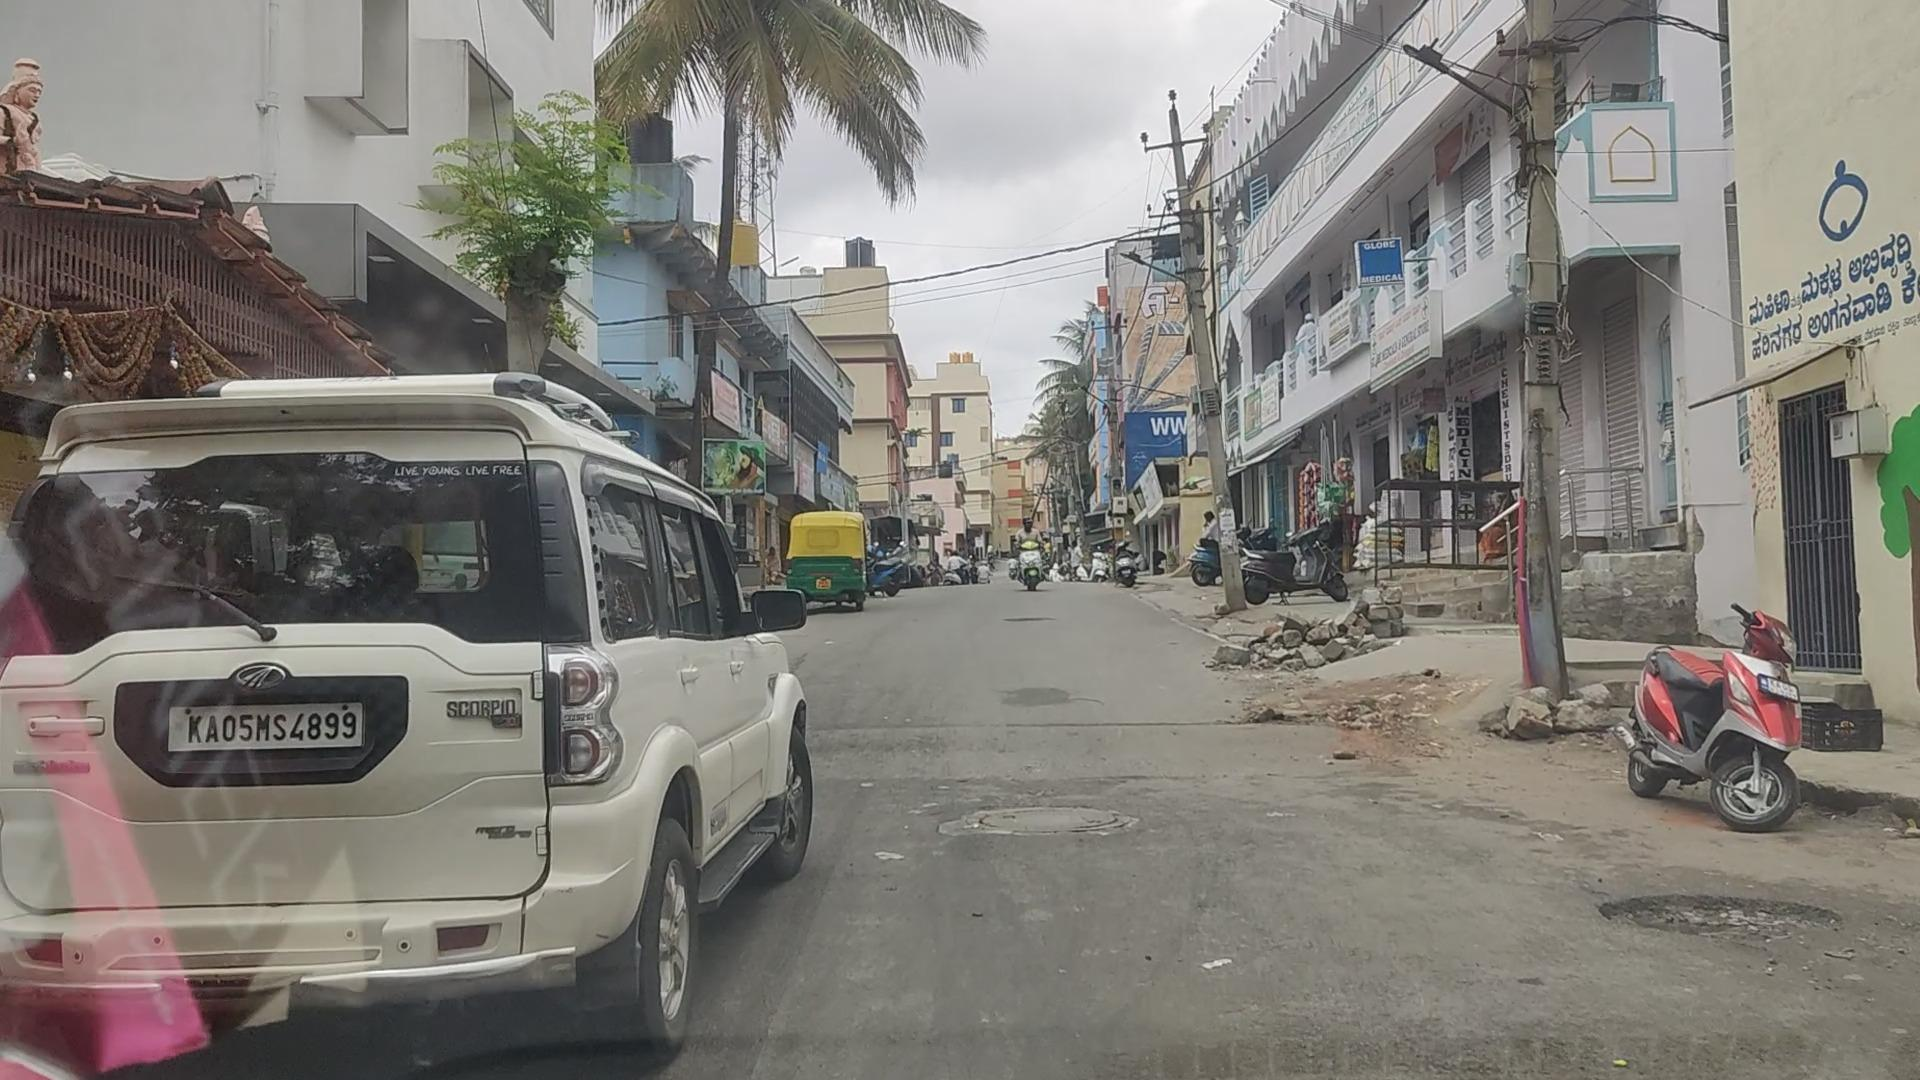RoadDamages: (1597, 869, 1855, 961), (932, 781, 1153, 865)
